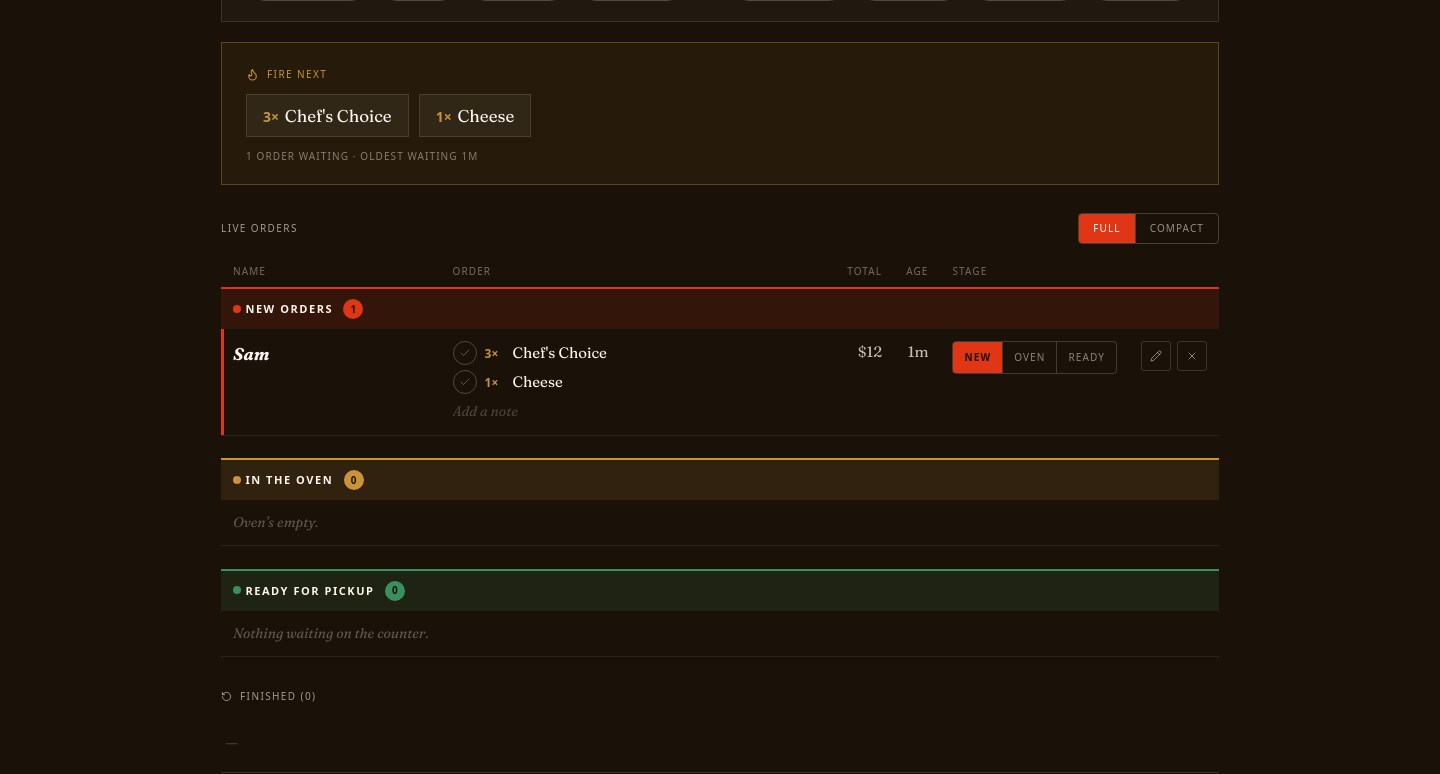
Test: AdminPage — handing over part of an order › says why when the server refuses, and puts the board back to the truth
The width and height of the screenshot is (1440, 774).
(page scrolled)
Check: the element named "stage for sam" is shown, box [952, 341, 1117, 374]
Click the button named "Hand over one Cheese to Sam" at {"x": 464, "y": 382}, box [452, 370, 476, 394]
(page scrolled)
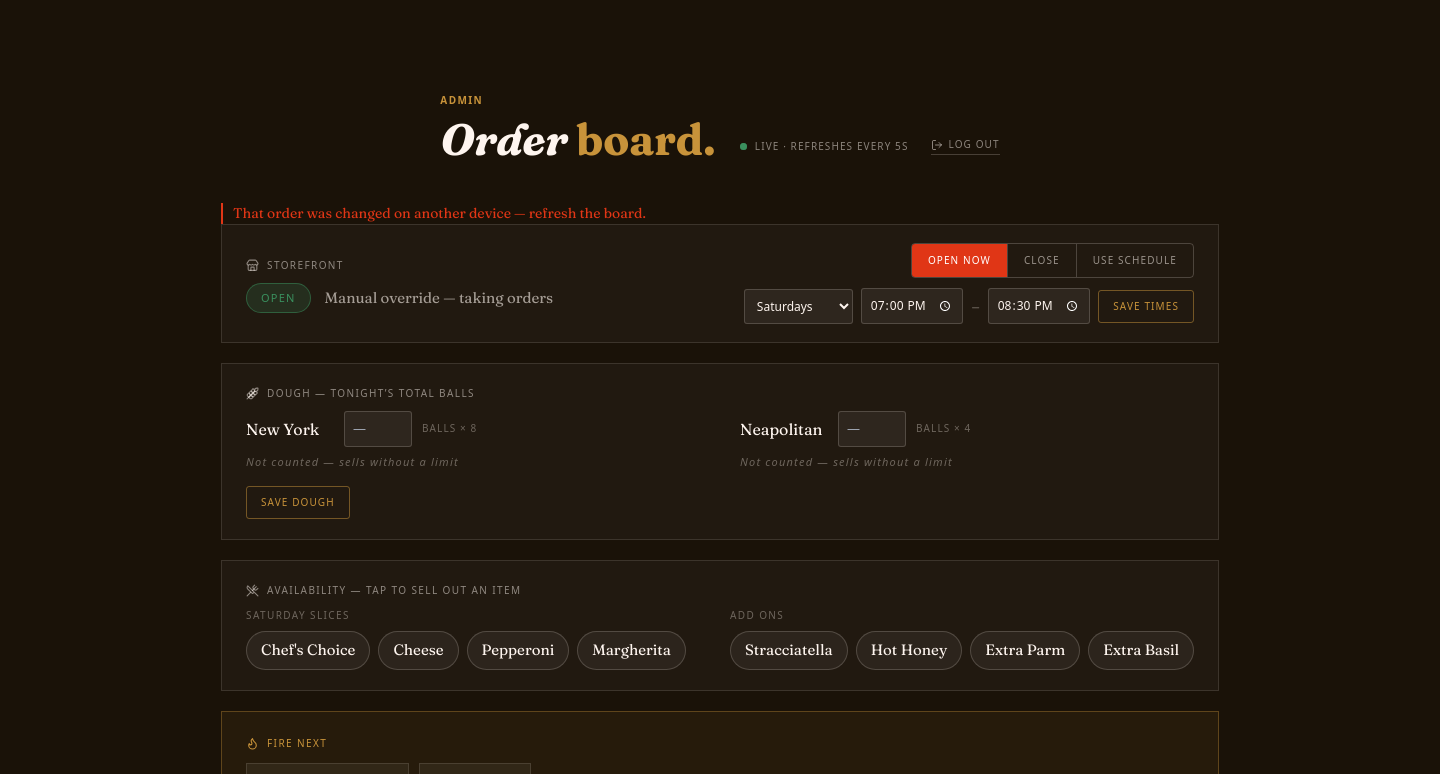
Check: the message shows "changed on another device", box [233, 204, 646, 222]
